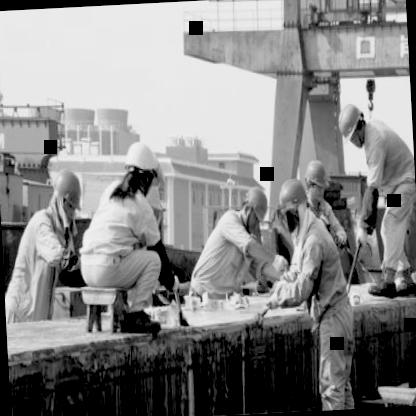helmet: (120, 137, 158, 194), (52, 164, 87, 217), (335, 97, 368, 149), (300, 156, 331, 209), (277, 176, 308, 226), (243, 186, 272, 230)
